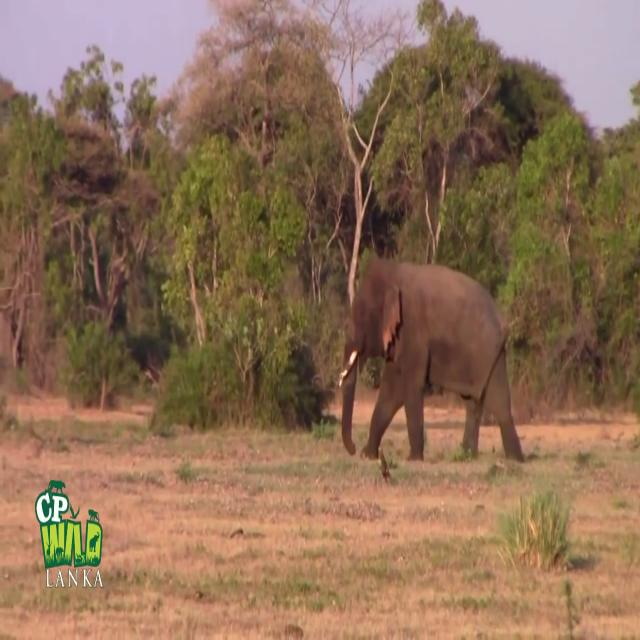Elephant: (338, 256, 525, 465)
